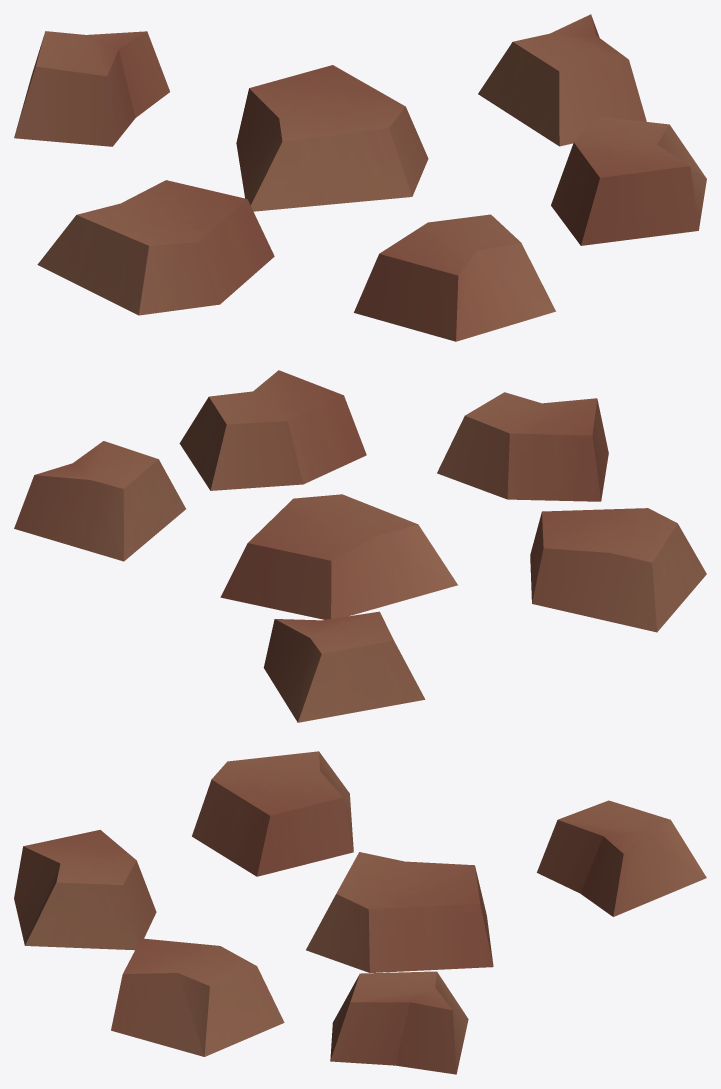
File: small_rocks_dry.FBX
3 views of the same model, one above another, from view 1: azimuth 30°, elevation 25°; view 2: azimuth 150°, elevation 25°; view 3: azimuth 270°, elevation 25° (orthographic). The views are drawn at different scales.
Parts seen in each view (by area): view 1: dry_small_rocks; view 2: dry_small_rocks; view 3: dry_small_rocks.
Boxes of the visible parts, x1,y1,x2,y2 form: dry_small_rocks: (14,14,706,341); dry_small_rocks: (14,370,706,722); dry_small_rocks: (14,751,706,1074).
Size of the model in its own units: 2.07 by 0.1907 by 2.16.
